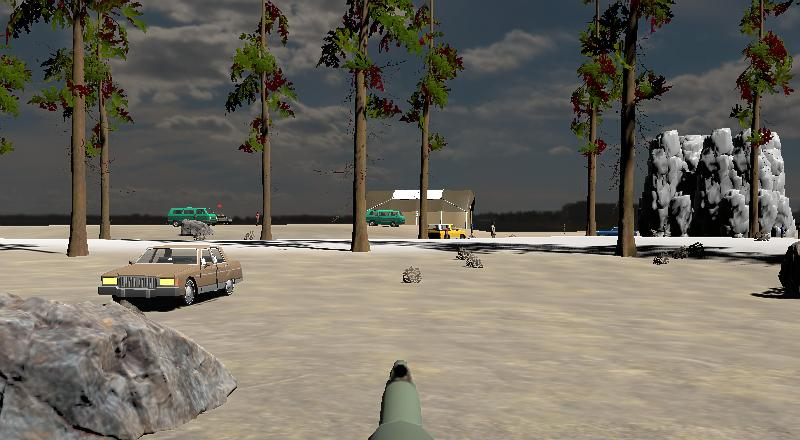car: (94, 241, 245, 309), (166, 206, 219, 229), (364, 208, 407, 229), (426, 223, 468, 241)
